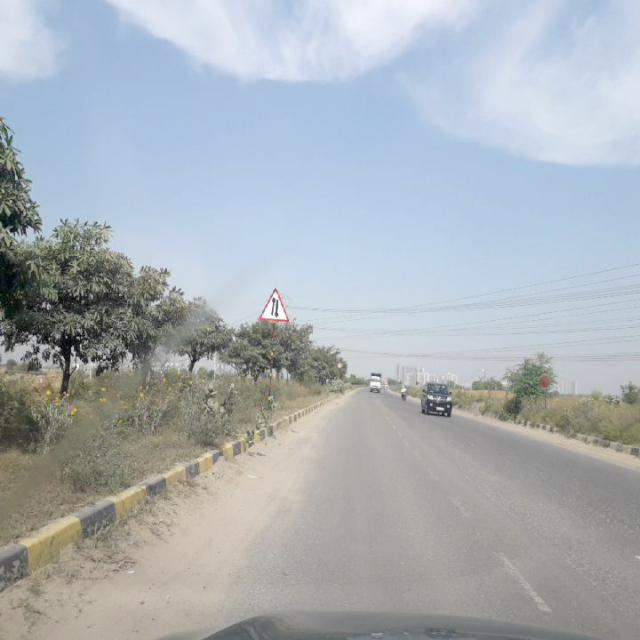crack: (519, 492, 639, 592)
